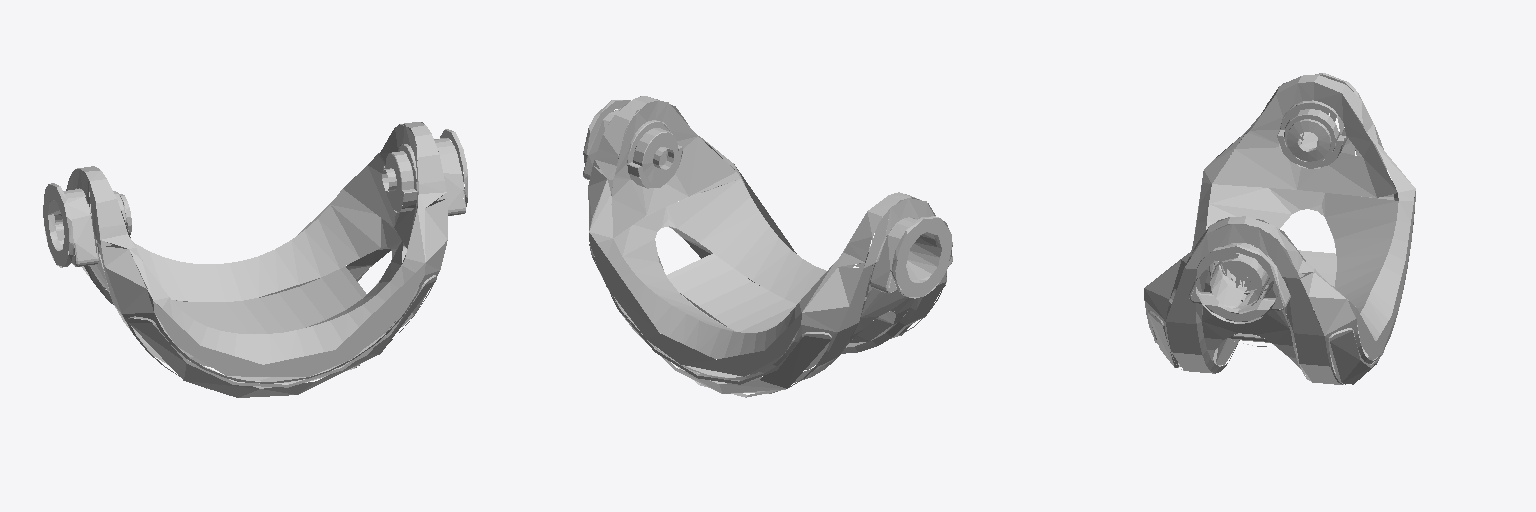
File: arml_wri1_joint.obj
The picture shows the model from 3 angles: view 1: azimuth 30°, elevation 25°; view 2: azimuth 150°, elevation 25°; view 3: azimuth 270°, elevation 25°; orthographic projection.
Size of the model in its own units: 0.0949 by 0.0522 by 0.0601.